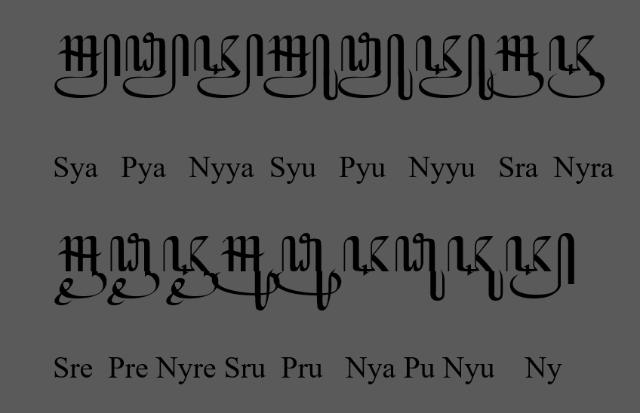-Ny: (504, 233, 576, 301)
Ny1: (342, 236, 390, 276)
Nyr: (548, 34, 606, 100)
Nyre: (162, 235, 220, 307)
Nyu1: (446, 235, 504, 303)
Nyy: (193, 32, 265, 100)
Nyyu: (415, 34, 495, 102)
Pre: (106, 233, 160, 307)
Pru: (274, 232, 342, 312)
Pu: (394, 232, 446, 302)
Py: (122, 32, 190, 100)
Sr: (486, 34, 544, 100)
Sre: (52, 235, 108, 306)
Sru: (212, 235, 280, 312)
Sy: (55, 33, 122, 99)
Syu: (262, 32, 340, 102)
_Pyu: (336, 32, 414, 102)
